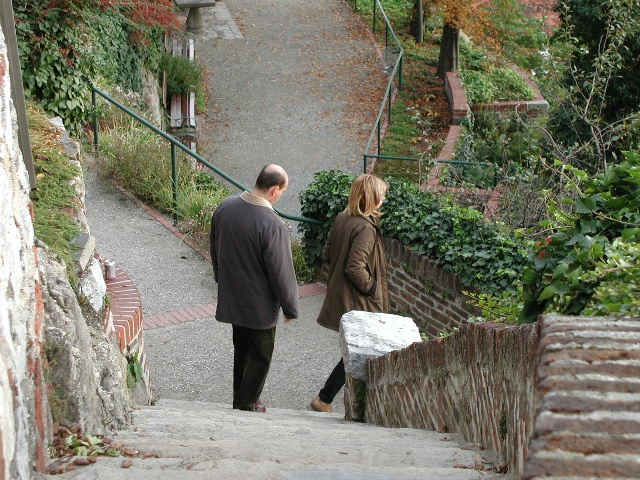person: (209, 160, 301, 409)
